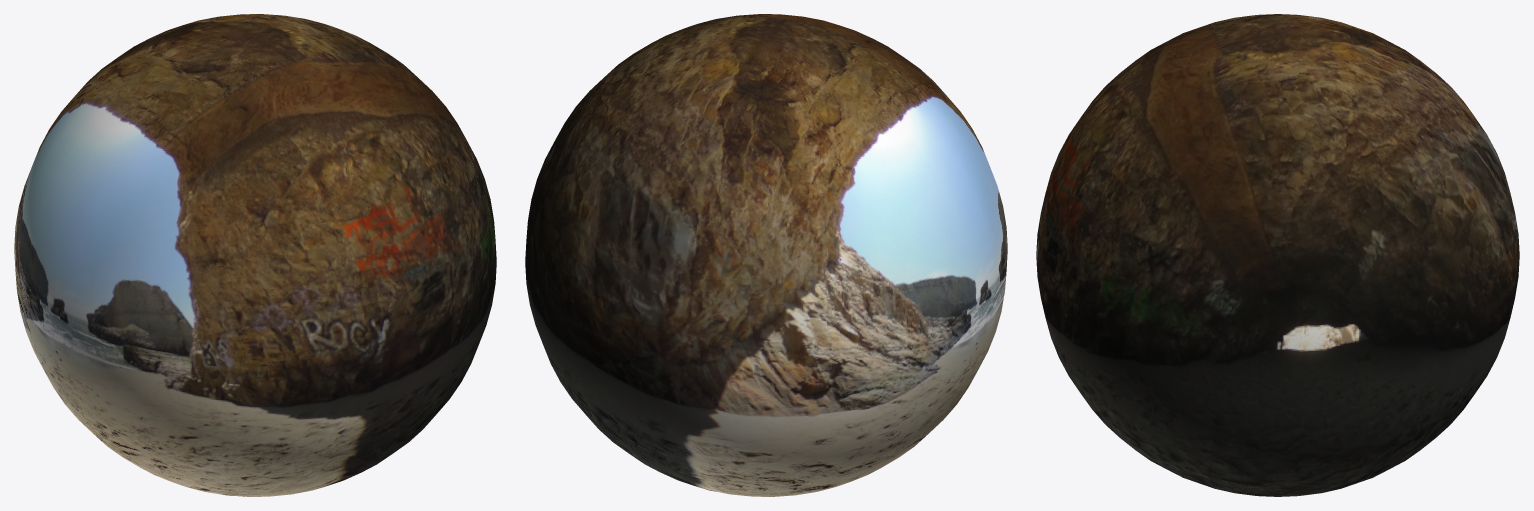
File: cove.glb
The picture shows the model from 3 angles, left to right: view 1: azimuth 30°, elevation 25°; view 2: azimuth 150°, elevation 25°; view 3: azimuth 270°, elevation 25°; orthographic projection.
Visible parts, largest first — view 1: skydome_rock_v1; view 2: skydome_rock_v1; view 3: skydome_rock_v1.
Boxes of the visible parts, x1=… form: skydome_rock_v1: x1=14, y1=14, x2=496, y2=496; skydome_rock_v1: x1=525, y1=14, x2=1007, y2=496; skydome_rock_v1: x1=1036, y1=14, x2=1519, y2=496.
Size of the model in its own units: 105 by 105 by 105.
1 material, 1 textured.
